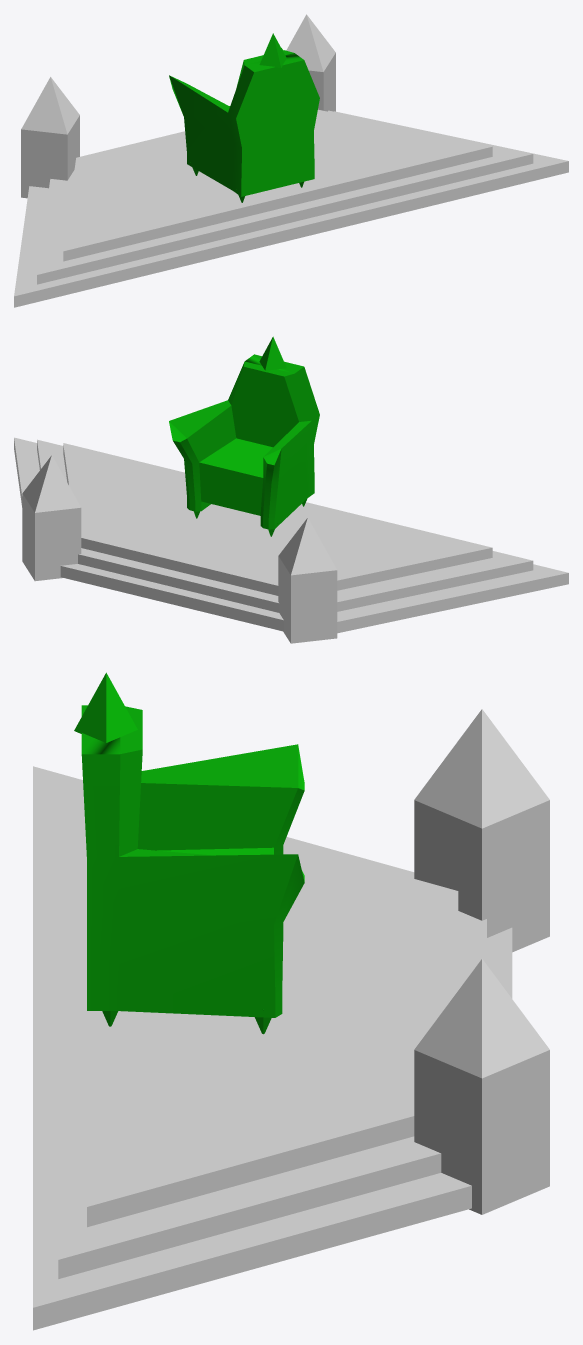
The model's file is throne_triangle_king.fbx.
3 renders of one model, top to bottom at view 1: azimuth 30°, elevation 25°; view 2: azimuth 150°, elevation 25°; view 3: azimuth 270°, elevation 25°, orthographic. The views are drawn at different scales.
Visible parts, largest first — view 1: polySurface23; view 2: polySurface23; view 3: polySurface23.
Boxes of the visible parts, x1=… form: polySurface23: x1=14, y1=14, x2=568, y2=307; polySurface23: x1=14, y1=336, x2=568, y2=643; polySurface23: x1=33, y1=672, x2=549, y2=1330.
Size of the model in its own units: 28.01 by 9.4 by 11.3.
